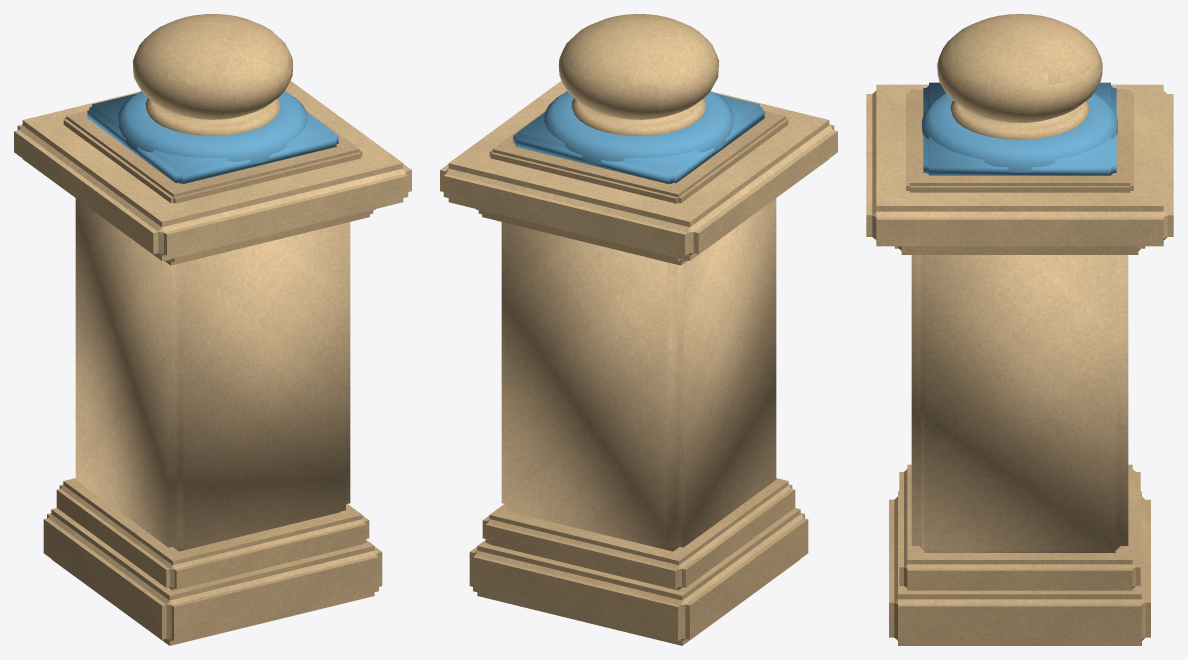
Rendered from east-post.glb.
3 views of the same model, side by side, from view 1: azimuth 30°, elevation 25°; view 2: azimuth 150°, elevation 25°; view 3: azimuth 270°, elevation 25° (orthographic). The views are drawn at different scales.
Parts seen in each view (by area): view 1: east-post; view 2: east-post; view 3: east-post.
Part boxes in pixels (x1=…): east-post: x1=14, y1=14, x2=411, y2=645; east-post: x1=440, y1=14, x2=837, y2=645; east-post: x1=866, y1=14, x2=1173, y2=645.
Size of the model in its own units: 0.54 by 1.1 by 0.54.
Materials: 2 (1 with a texture image).
